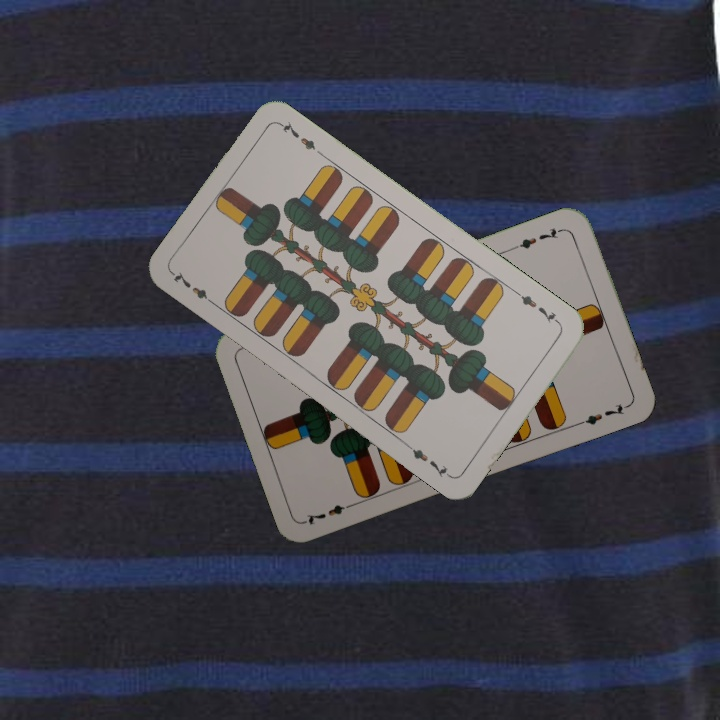E7: (169, 267, 220, 309), (512, 287, 563, 327), (510, 223, 567, 252), (301, 499, 358, 528)
